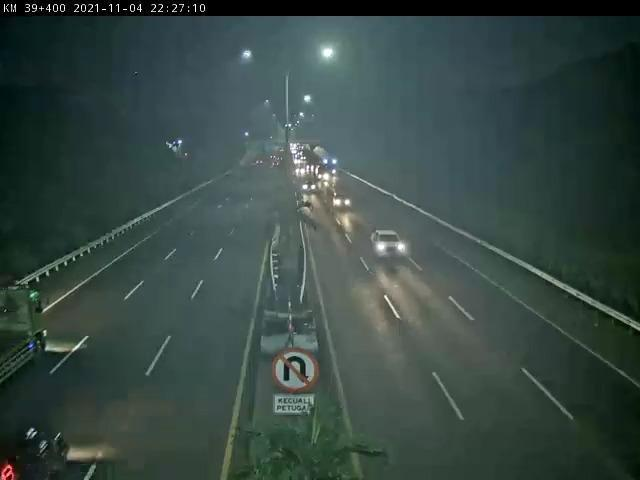car: (371, 229, 403, 257), (332, 196, 351, 211)
